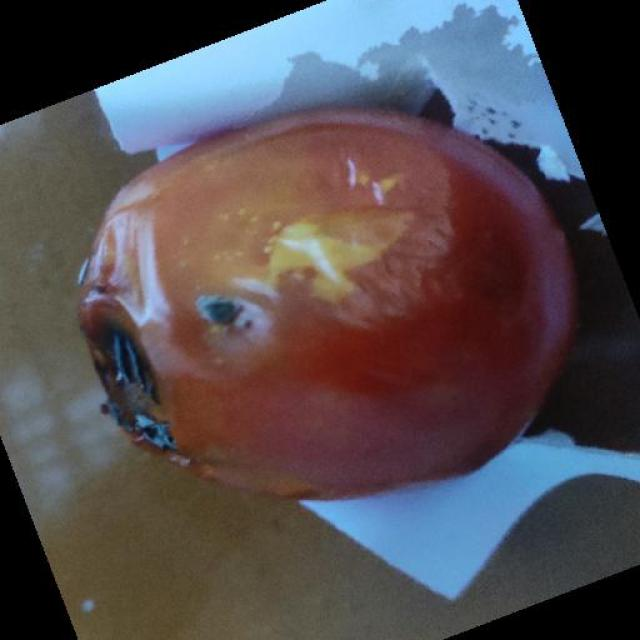Stale_tomato: (61, 116, 593, 516)
